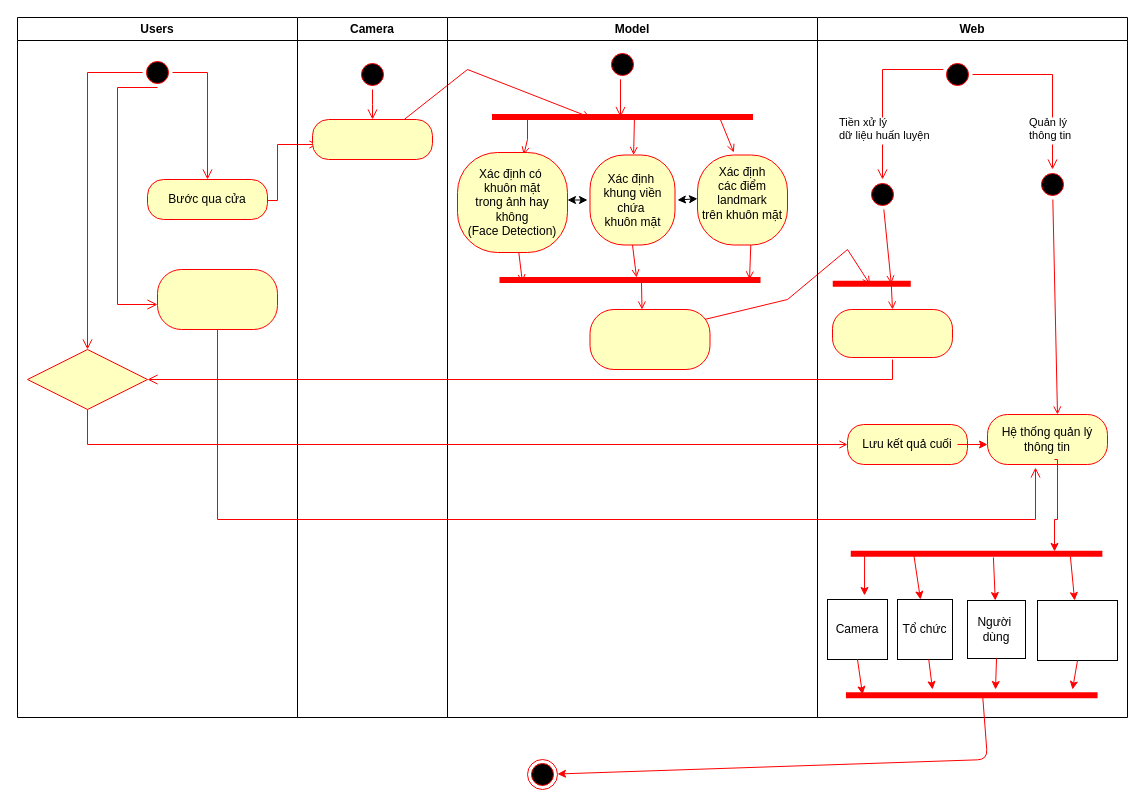
Image size: 1145x807. Some labels were removed from this diagram. Each missing label, with the centre of its shape:
"Ghi hình" goes at (x=372, y=139).
"Gán nhãn" goes at (x=87, y=379).
"Lưu tạm kết quả" goes at (x=892, y=333).
"Timekeeping" goes at (x=1077, y=630).
"Đăng ký Đăng nhập Sử dụng" goes at (x=217, y=299).
"Đưa ra top 3 khả năng có thể" goes at (x=649, y=339).
